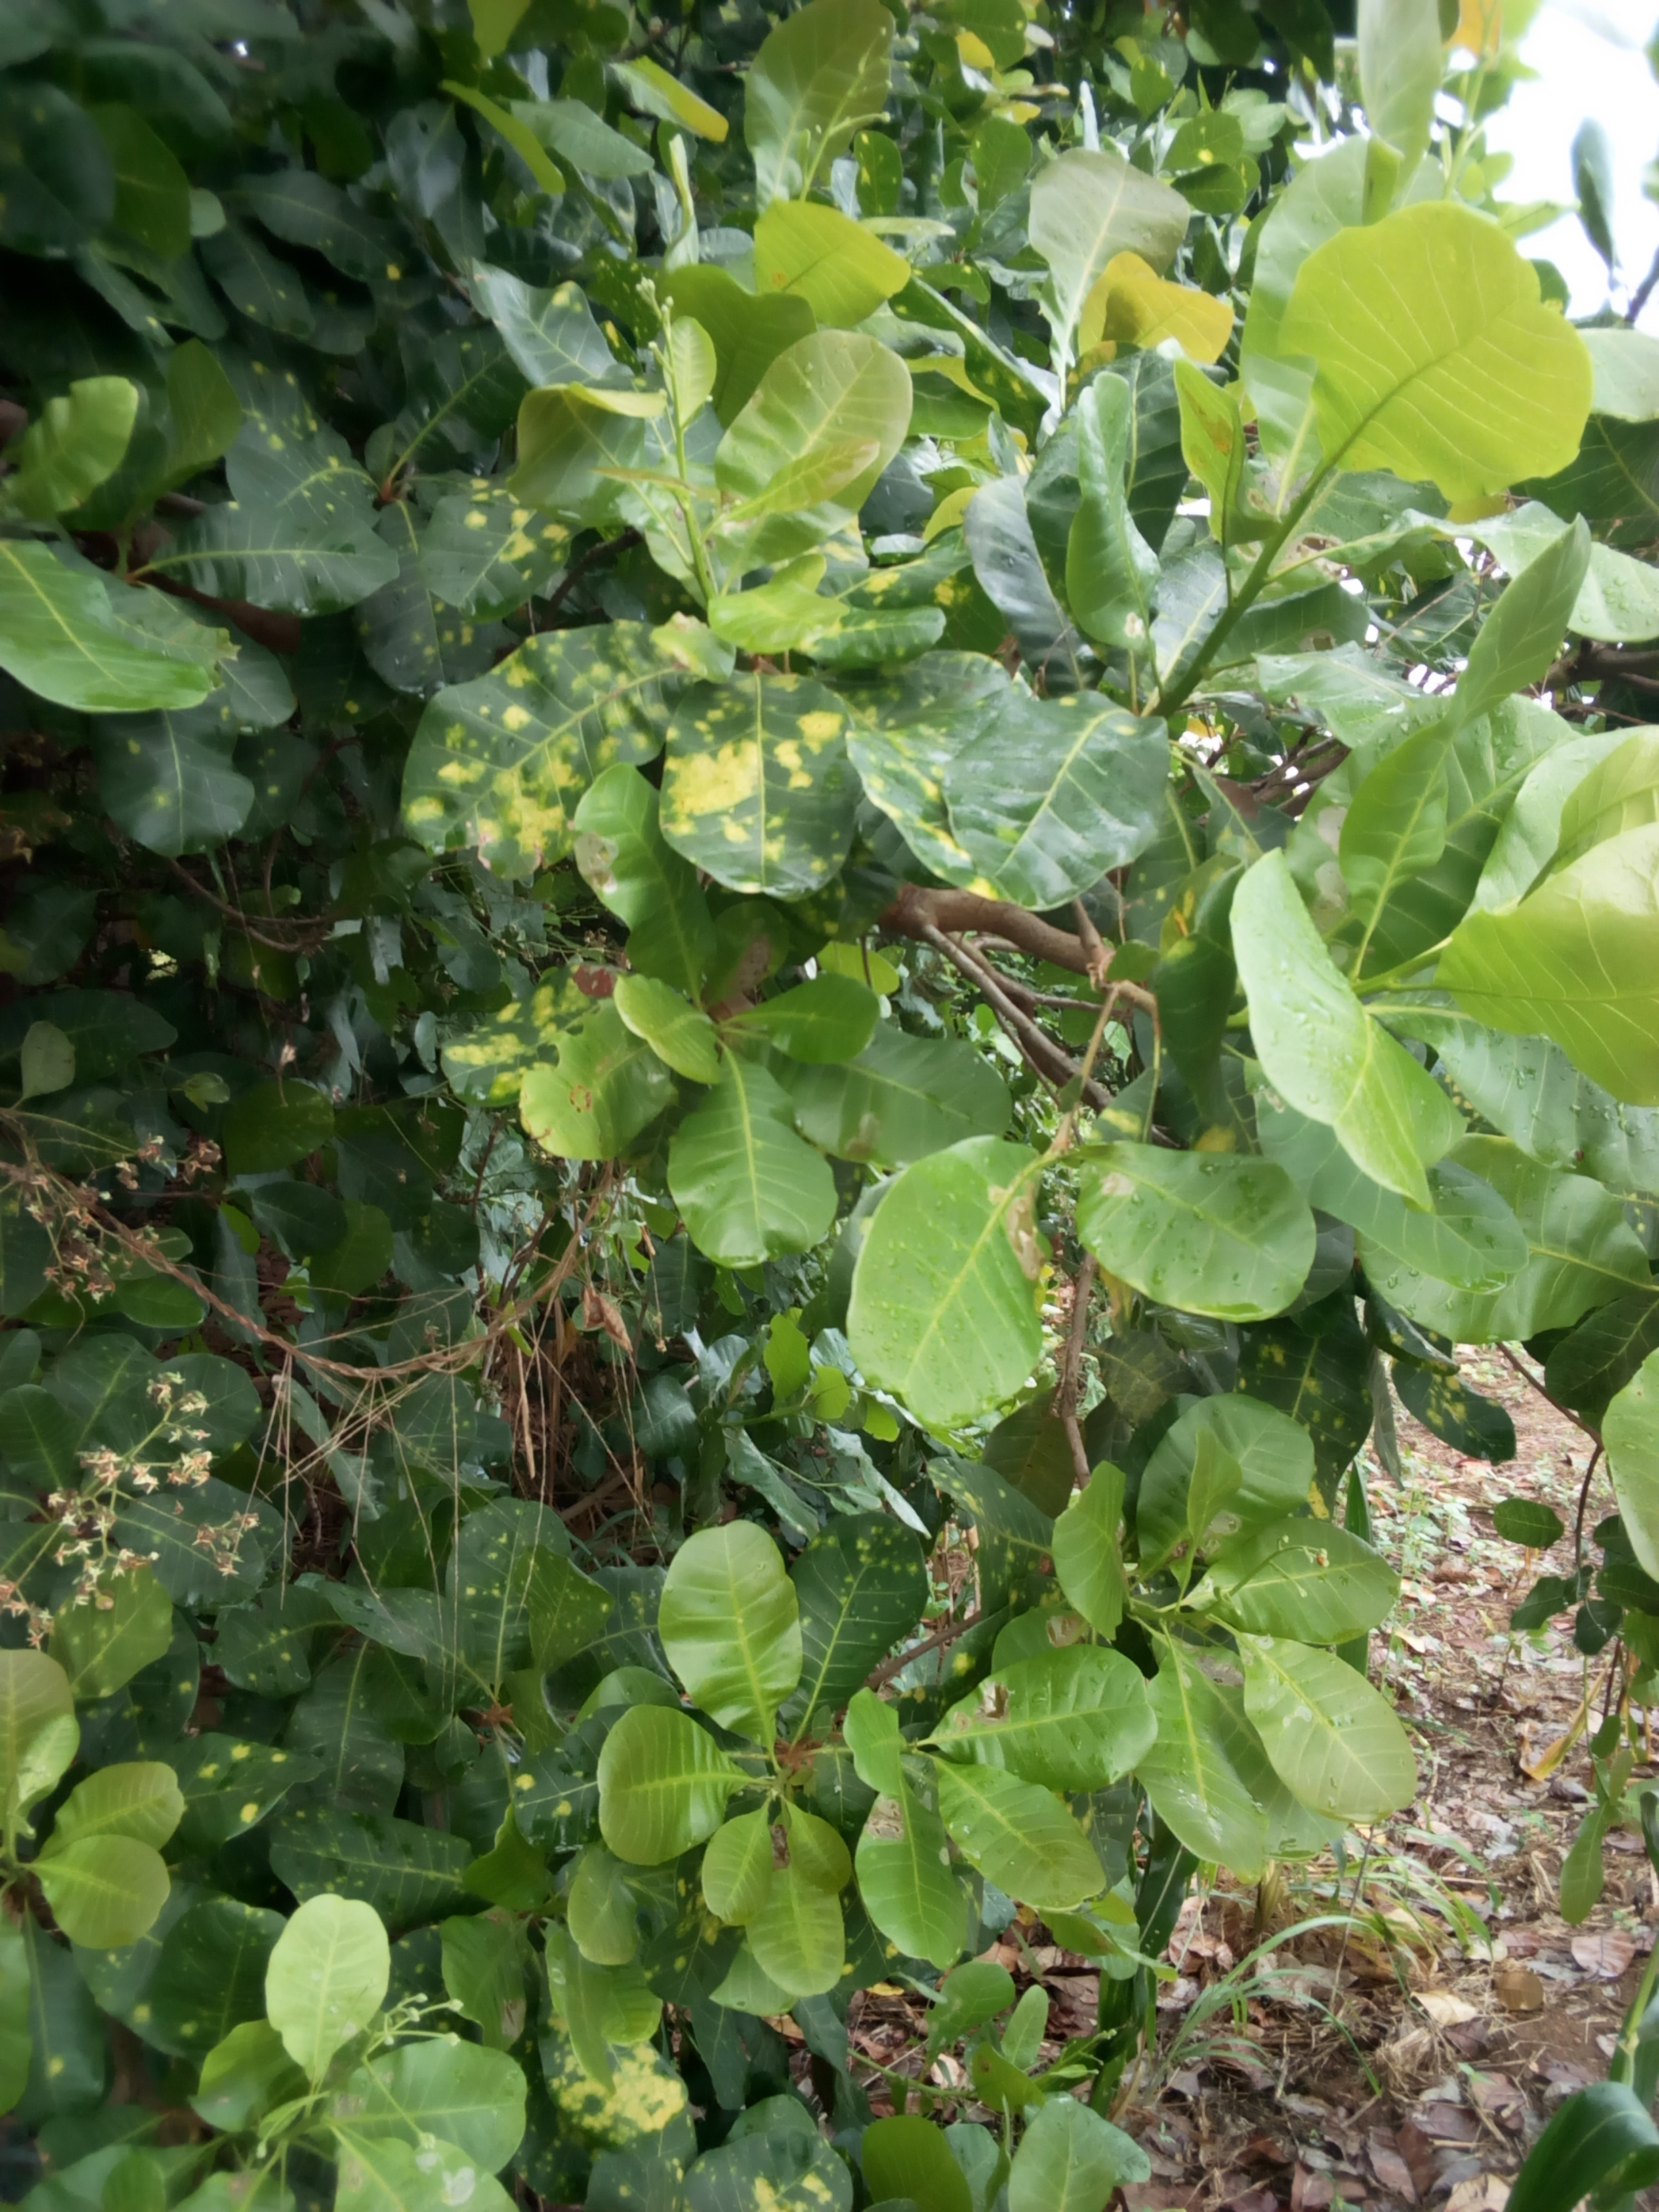Carence minérale: (378, 594, 676, 873), (653, 676, 894, 899), (840, 648, 1063, 883), (528, 1946, 718, 2177), (430, 948, 664, 1113), (166, 1730, 324, 1858)
